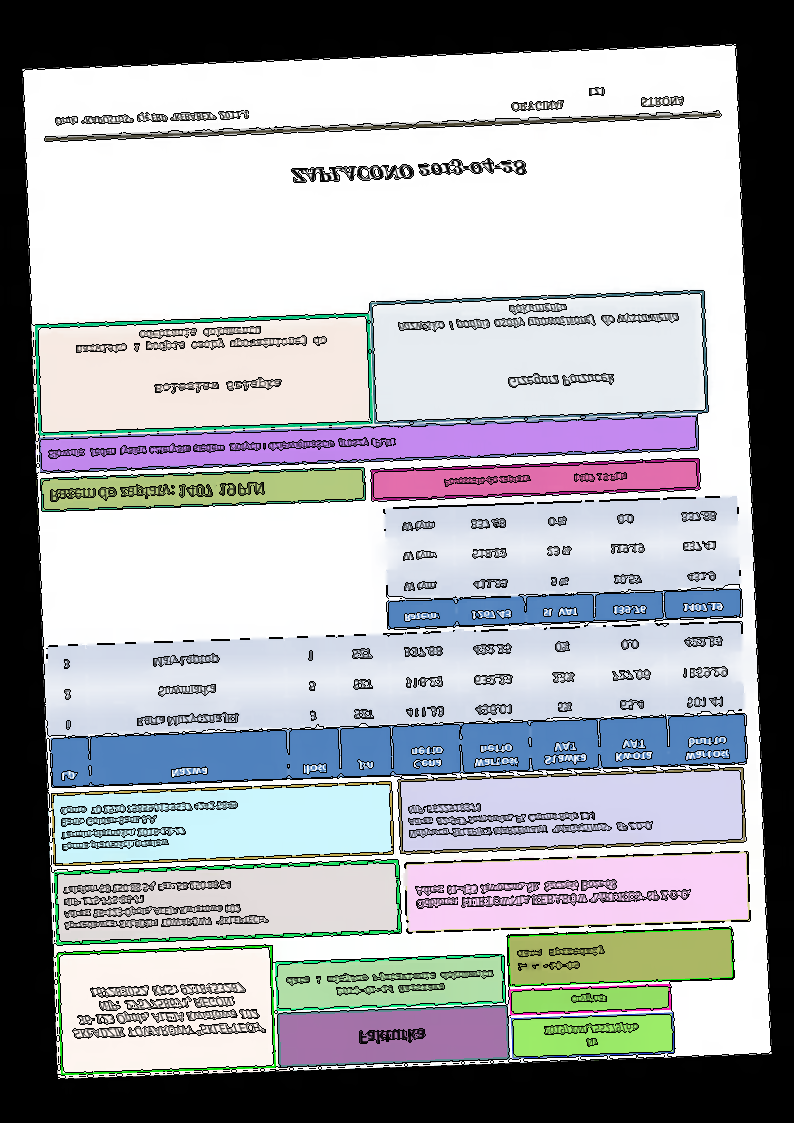Table: (45, 619, 747, 790), (382, 494, 744, 633)
TextBox: (69, 980, 269, 1043), (61, 876, 271, 935), (405, 793, 656, 842), (395, 295, 681, 335), (412, 874, 694, 914), (57, 798, 240, 856), (45, 435, 398, 463), (72, 323, 329, 357), (287, 153, 529, 188), (284, 966, 496, 1000), (46, 478, 266, 507), (507, 81, 688, 116), (53, 107, 251, 130), (440, 468, 629, 491), (541, 1019, 639, 1053), (150, 374, 282, 399), (513, 943, 608, 974), (505, 371, 617, 392), (355, 1026, 427, 1048), (569, 991, 610, 1006)
